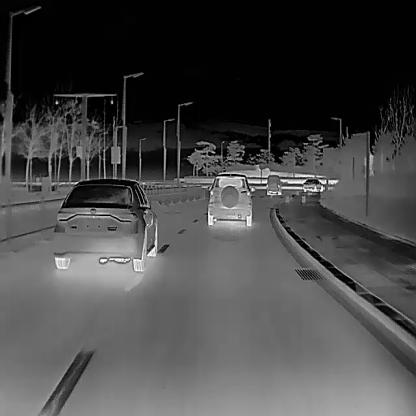car: (52, 176, 157, 270), (205, 170, 254, 225), (302, 174, 324, 192), (266, 174, 281, 194)
